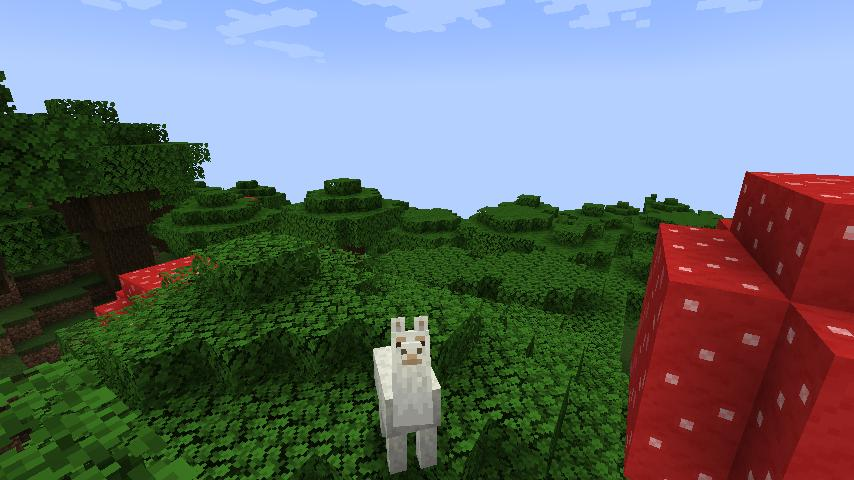llama: (369, 313, 446, 475)
